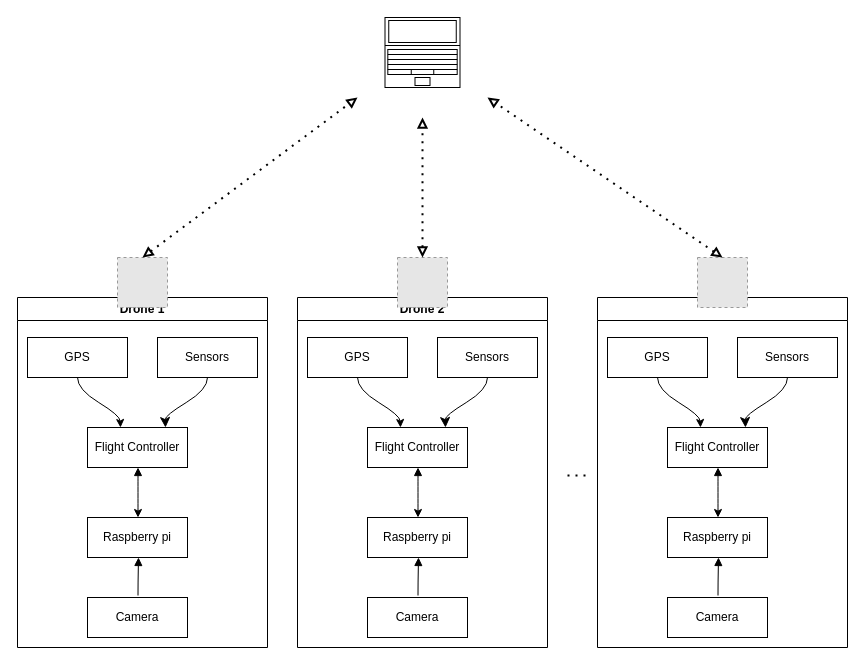
Image size: 865x665. Some labels were removed from this diagram. Grey dashed boxes stand in for pictures. The shapes that lost their labels are listed below. From the top down, each one's centre as x and y in pixels, then its label:
point 422,52: Ground Control Station
point 722,472: Drone N
